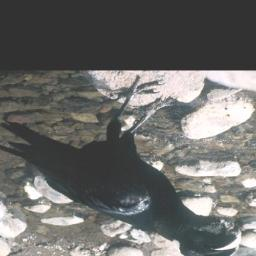Crow: (0, 75, 244, 256)
